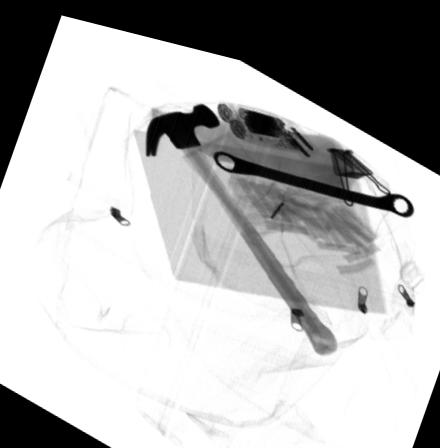Hammer: (145, 93, 336, 338)
Wrench: (213, 139, 414, 197)
